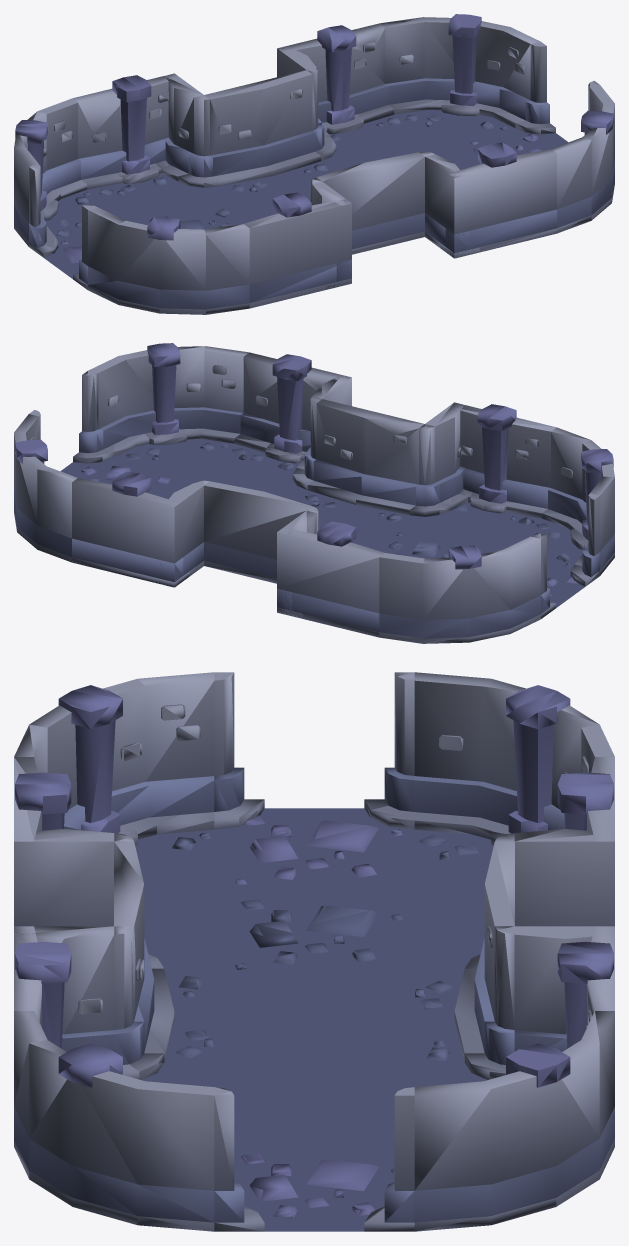
File: room-wide-variation_lev2.glb
3 renders of one model, top to bottom at view 1: azimuth 30°, elevation 25°; view 2: azimuth 150°, elevation 25°; view 3: azimuth 270°, elevation 25°, orthographic. The views are drawn at different scales.
Visible parts, largest first — view 1: room-wide-variation_lev2; view 2: room-wide-variation_lev2; view 3: room-wide-variation_lev2.
Boxes of the visible parts, left/top/right/bottom form: room-wide-variation_lev2: left=14, top=14, right=614, bottom=314; room-wide-variation_lev2: left=14, top=343, right=614, bottom=643; room-wide-variation_lev2: left=14, top=672, right=614, bottom=1231.
Bounding box in the file's own units: 20 × 3.33 × 12.
1 material, 1 textured.
